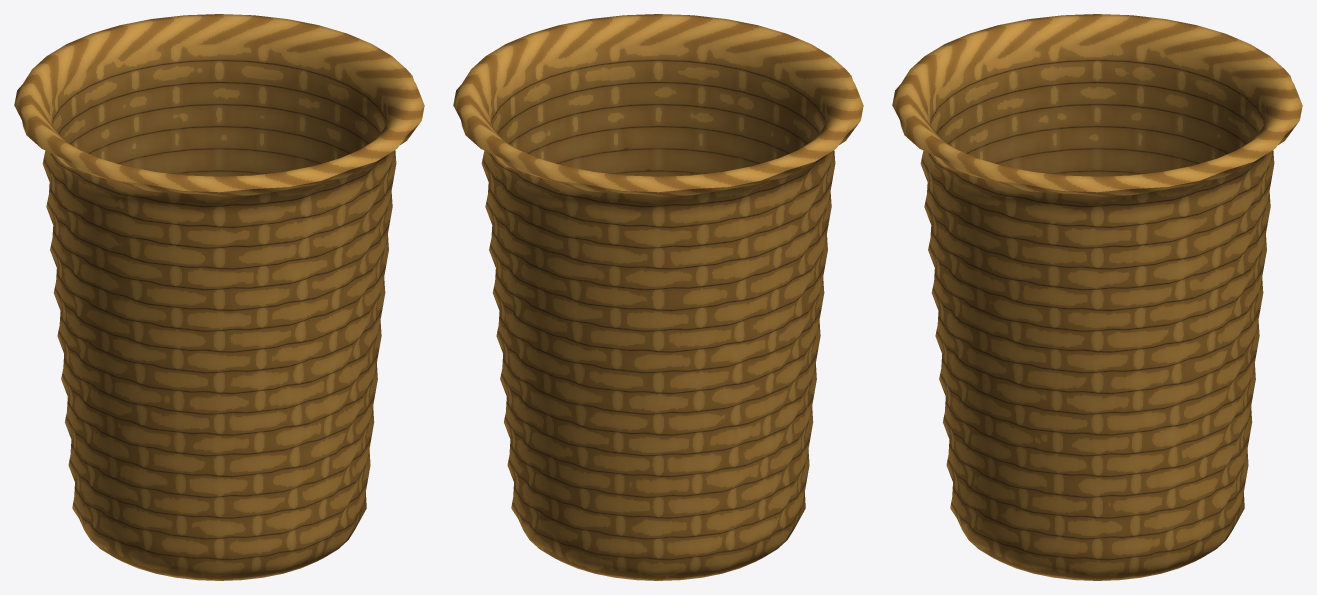
The model's file is Cup_Wicker.fbx.
The picture shows the model from 3 angles, left to right: view 1: azimuth 30°, elevation 25°; view 2: azimuth 150°, elevation 25°; view 3: azimuth 270°, elevation 25°; orthographic projection.
Parts seen in each view (by area): view 1: Cup_Wicker; view 2: Cup_Wicker; view 3: Cup_Wicker.
Boxes of the visible parts, <box> form: Cup_Wicker: <box>14,14,424,580</box>; Cup_Wicker: <box>453,14,863,580</box>; Cup_Wicker: <box>892,14,1302,580</box>.
Bounding box in the file's own units: 0.7774 × 0.9 × 0.7774.
Materials: 1 (1 with a texture image).
